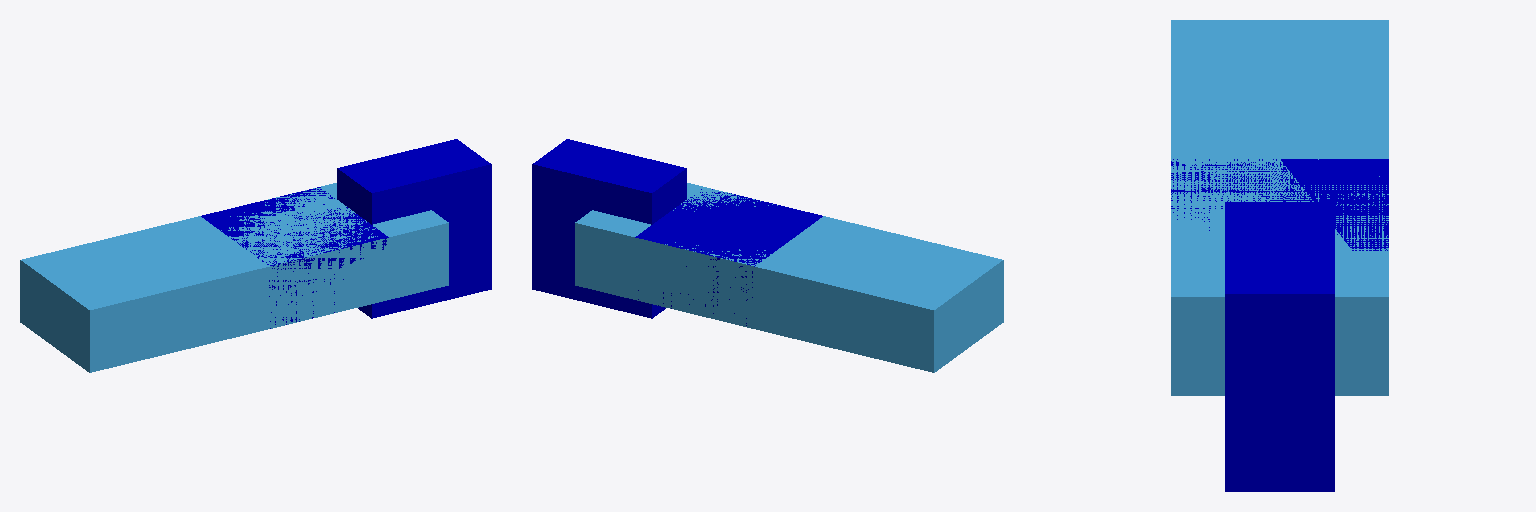
The robot description file, URDF, robot "Chain":
<?xml version="1.0"?>
<robot name="Chain">
  <link name="baselink"/>
  <link name="chainbase">
    <visual>
      <geometry>
        <box size="0.3 .10 0.05"/>
      </geometry>
    </visual>
    <inertial>
      <origin rpy="0 0 0" xyz="0 0 0"/>
      <mass value="0.0001"/>
      <inertia ixx="1e-08" ixy="0" ixz="0" iyy="1e-08" iyz="0" izz="1e-08"/>
    </inertial>
  </link>
  <link name="link1">
    <visual>
      <origin rpy="0 0 0" xyz="0.05 0.0 0"/>
      <geometry>
        <box size="0.1 0.1 0.05"/>
      </geometry>
      <material name="blue">
        <color rgba="0 0 0.8 1"/>
      </material>
    </visual>
    <inertial>
      <origin rpy="0 0 0" xyz="0.05 0.0 0.0"/>
      <mass value="5.70044"/>
      <inertia ixx="0.04709102262" ixy="0.00012787556" ixz="0.00614870039" iyy="0.03766976455" iyz="0.00078086899" izz="0.03595988478"/>
    </inertial>
  </link>
  <link name="link2">
    <visual>
      <origin rpy="0 0 0" xyz="0.05 0.0 0"/>
      <geometry>
        <box size="0.1 0.1 0.05"/>
      </geometry>
      <material name="blue">
        <color rgba="0 0 0.8 1"/>
      </material>
    </visual>
    <inertial>
      <origin rpy="0 0 0" xyz="0.05 0.0 0.0"/>
      <mass value="3.22698"/>
      <inertia ixx="0.01175209419" ixy="-0.00030096398" ixz="0.00207675762" iyy="0.0278859752" iyz="-0.00018821993" izz="0.02078749298"/>
    </inertial>
  </link>
  <!-- Joints -->
  <joint name="basetoroot" type="fixed">
    <parent link="baselink"/>
    <child link="chainbase"/>
    <origin rpy="0 0 0" xyz="0 0 0"/>
  </joint>
  <joint name="roottolink1" type="revolute">
    <parent link="chainbase"/>
    <child link="link1"/>
    <origin rpy="0 0 0" xyz="0.0 0.0 0"/>
    <axis xyz="0 0 1"/>
    <dynamics damping="0.7" friction="0.0"/>
    <limit effort="100" velocity="1.5" lower="-1.7" upper="1.7"/>
  </joint>
  <joint name="link1tolink2" type="revolute">
    <parent link="link1"/>
    <child link="link2"/>
		<origin rpy="-1.57079632679 0 0" xyz="0.1 0 0.0"/>
    <axis xyz="0 0 1"/>
    <dynamics damping="0.7" friction="0.0"/>
    <limit effort="100" velocity="1.5" lower="-2.147" upper="1.047"/>
  </joint>
</robot>

--- Facts derived from the render (not from the file) ---
The picture shows the robot from 3 angles, left to right: view 1: azimuth 30°, elevation 25°; view 2: azimuth 150°, elevation 25°; view 3: azimuth 270°, elevation 25°; orthographic projection.
Model Chain with 4 links and 3 joints (2 revolute, 1 fixed), rooted at baselink, posed all joints at 0.
Links seen in each view (by area): view 1: chainbase, link2, link1; view 2: chainbase, link2, link1; view 3: chainbase, link2, link1.
Boxes of the visible links, <box> form: chainbase: <box>20,183,448,372</box>; link2: <box>337,139,491,318</box>; link1: <box>201,187,388,328</box>; chainbase: <box>575,183,1003,372</box>; link2: <box>532,139,686,318</box>; link1: <box>635,189,822,325</box>; chainbase: <box>1171,20,1388,395</box>; link2: <box>1225,202,1334,491</box>; link1: <box>1171,159,1388,250</box>.
Bounding box of the posed robot: 0.35 × 0.1 × 0.1 m (x, y, z).
Geometry: primitives only (box / cylinder / sphere), no mesh files.